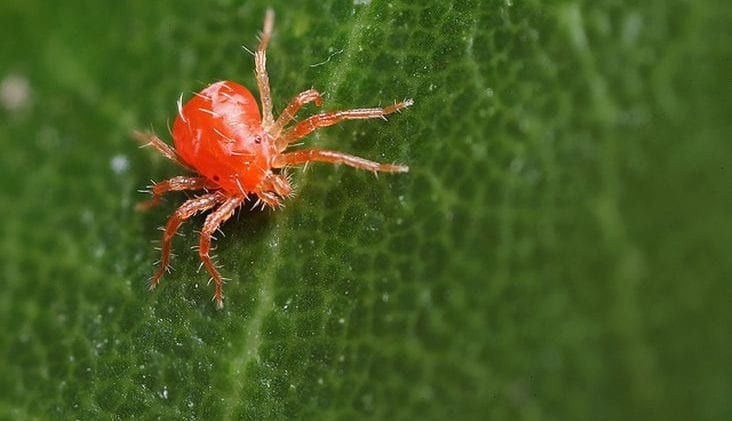Mites: (111, 24, 421, 299)
